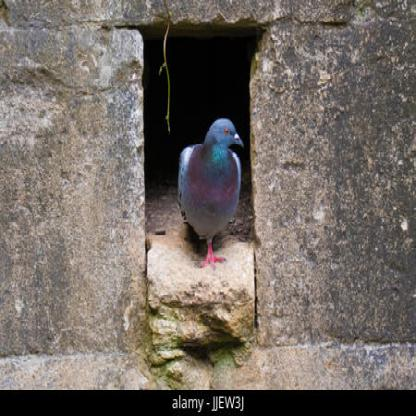Flying Rat: (169, 109, 250, 263)
